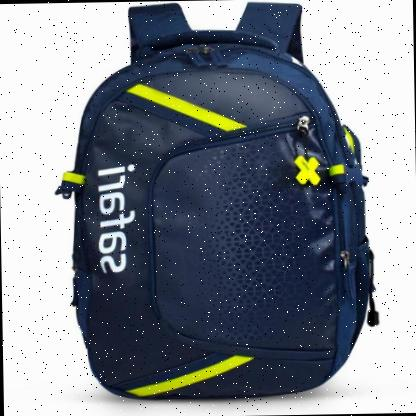bag: (51, 0, 390, 413)
